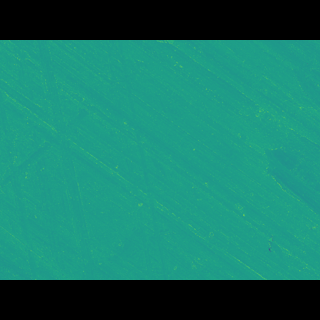Loch: (30, 69, 111, 252), (0, 99, 93, 251), (115, 69, 176, 250)
